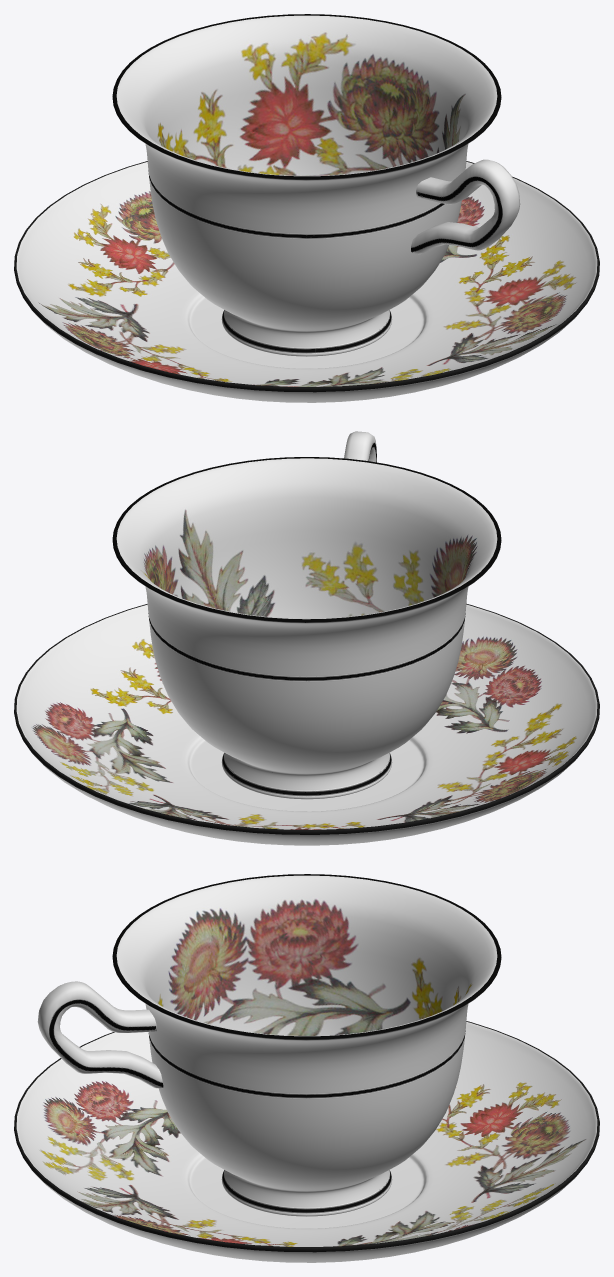
File: taza.glb
3 renders of one model, top to bottom at view 1: azimuth 30°, elevation 25°; view 2: azimuth 150°, elevation 25°; view 3: azimuth 270°, elevation 25°, orthographic.
Parts seen in each view (by area): view 1: Line003_Saucer_1_0; view 2: Line003_Saucer_1_0; view 3: Line003_Saucer_1_0.
Boxes of the visible parts, left/top/right/bottom form: Line003_Saucer_1_0: left=14, top=14, right=599, bottom=402; Line003_Saucer_1_0: left=14, top=431, right=599, bottom=845; Line003_Saucer_1_0: left=14, top=874, right=599, bottom=1262.
Size of the model in its own units: 0.302 by 0.1354 by 0.302.
3 materials, 3 textured.
